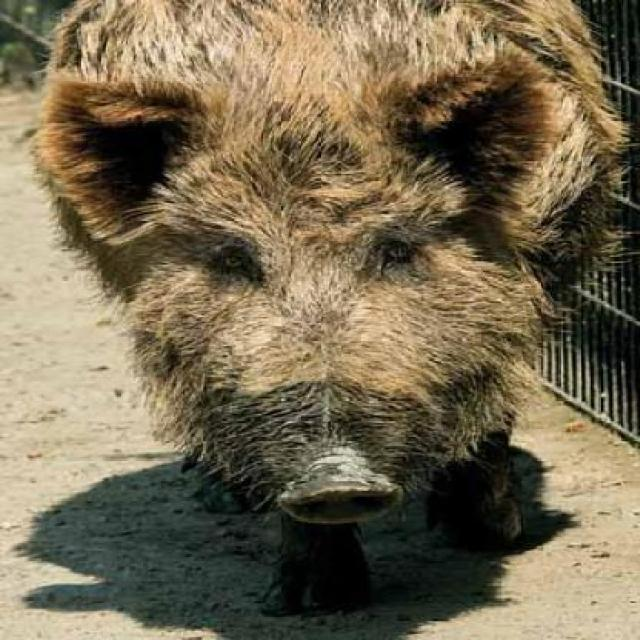wildboar: (29, 2, 638, 615)
